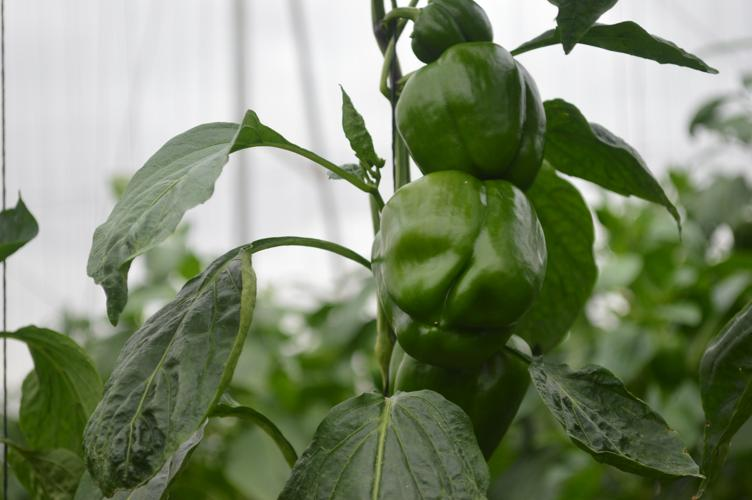BellPepper: (349, 171, 532, 371), (363, 330, 526, 477), (382, 61, 554, 176), (401, 1, 490, 65)
